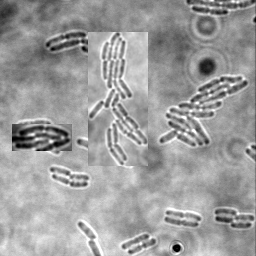Dividing: (52, 175, 89, 189), (128, 238, 157, 255), (166, 209, 202, 222), (164, 217, 200, 228), (192, 7, 229, 17)
Microcolony: (88, 32, 148, 166), (158, 76, 249, 147), (45, 32, 121, 57), (12, 124, 72, 151), (214, 208, 255, 229)
Rod: (121, 233, 150, 251), (78, 222, 99, 240), (50, 167, 72, 177), (69, 174, 90, 183)
